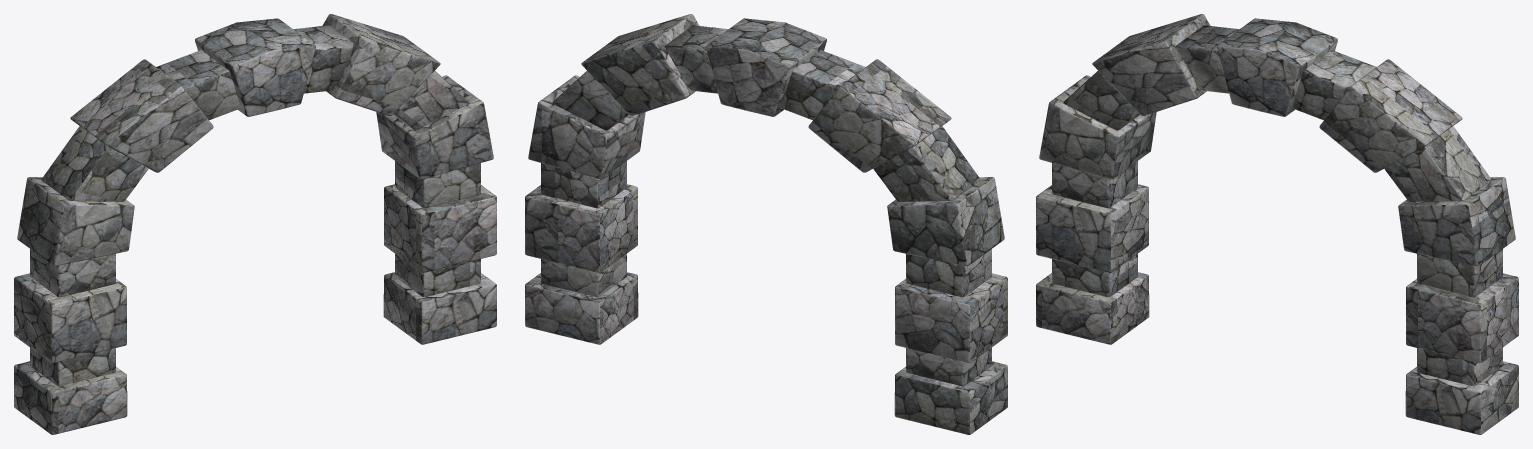
Rendered from arco.obj.
The picture shows the model from 3 angles, left to right: view 1: azimuth 30°, elevation 25°; view 2: azimuth 150°, elevation 25°; view 3: azimuth 330°, elevation 25°; orthographic projection.
Visible parts, largest first — view 1: arco; view 2: arco; view 3: arco.
Boxes of the visible parts, x1=… form: arco: x1=14, y1=14, x2=496, y2=434; arco: x1=525, y1=14, x2=1007, y2=434; arco: x1=1036, y1=14, x2=1518, y2=434.
Size of the model in its own units: 21.29 by 15.14 by 3.24.
